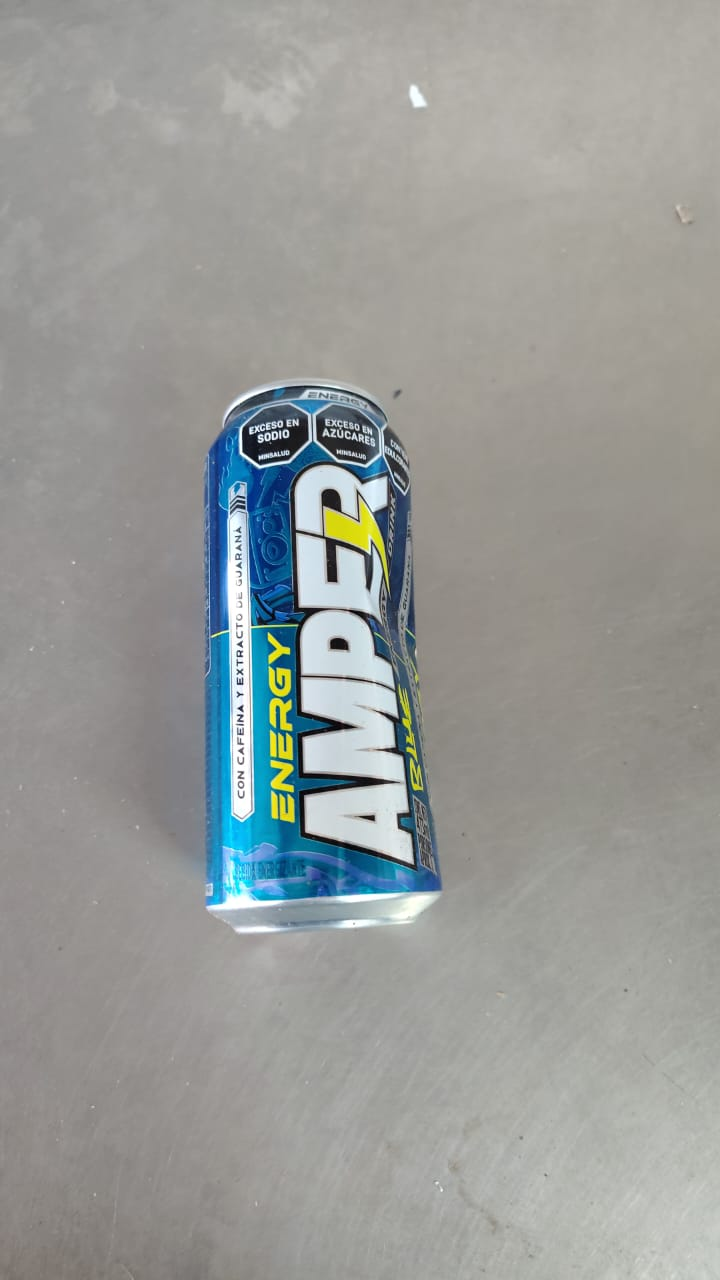Metal: (204, 375, 443, 935)
